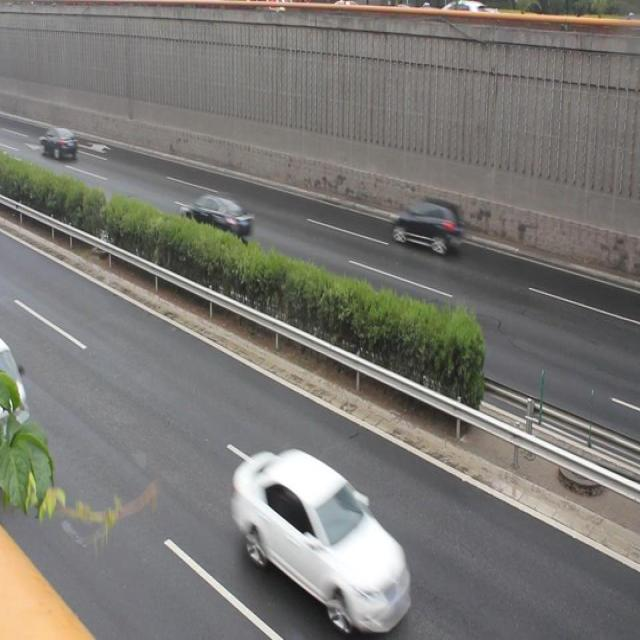car: (232, 448, 410, 625), (390, 196, 463, 254), (179, 194, 252, 245)
